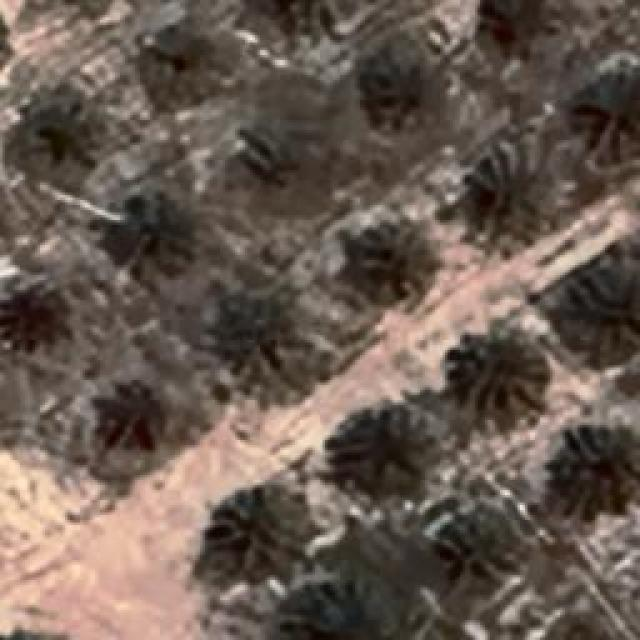PalmTree: (56, 16, 307, 135), (534, 237, 636, 365), (318, 402, 452, 496), (322, 205, 440, 305), (416, 492, 534, 586), (195, 282, 305, 380), (208, 478, 310, 578), (450, 325, 548, 425), (76, 376, 172, 474), (271, 570, 404, 640), (100, 192, 195, 286), (354, 35, 442, 133), (470, 147, 552, 250), (550, 420, 638, 515), (231, 110, 324, 190), (138, 14, 226, 90), (574, 64, 638, 158), (0, 276, 70, 356), (478, 0, 556, 65), (540, 612, 622, 640), (0, 629, 77, 640), (0, 3, 10, 79)
